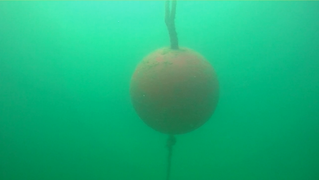buoy: (129, 46, 220, 135)
